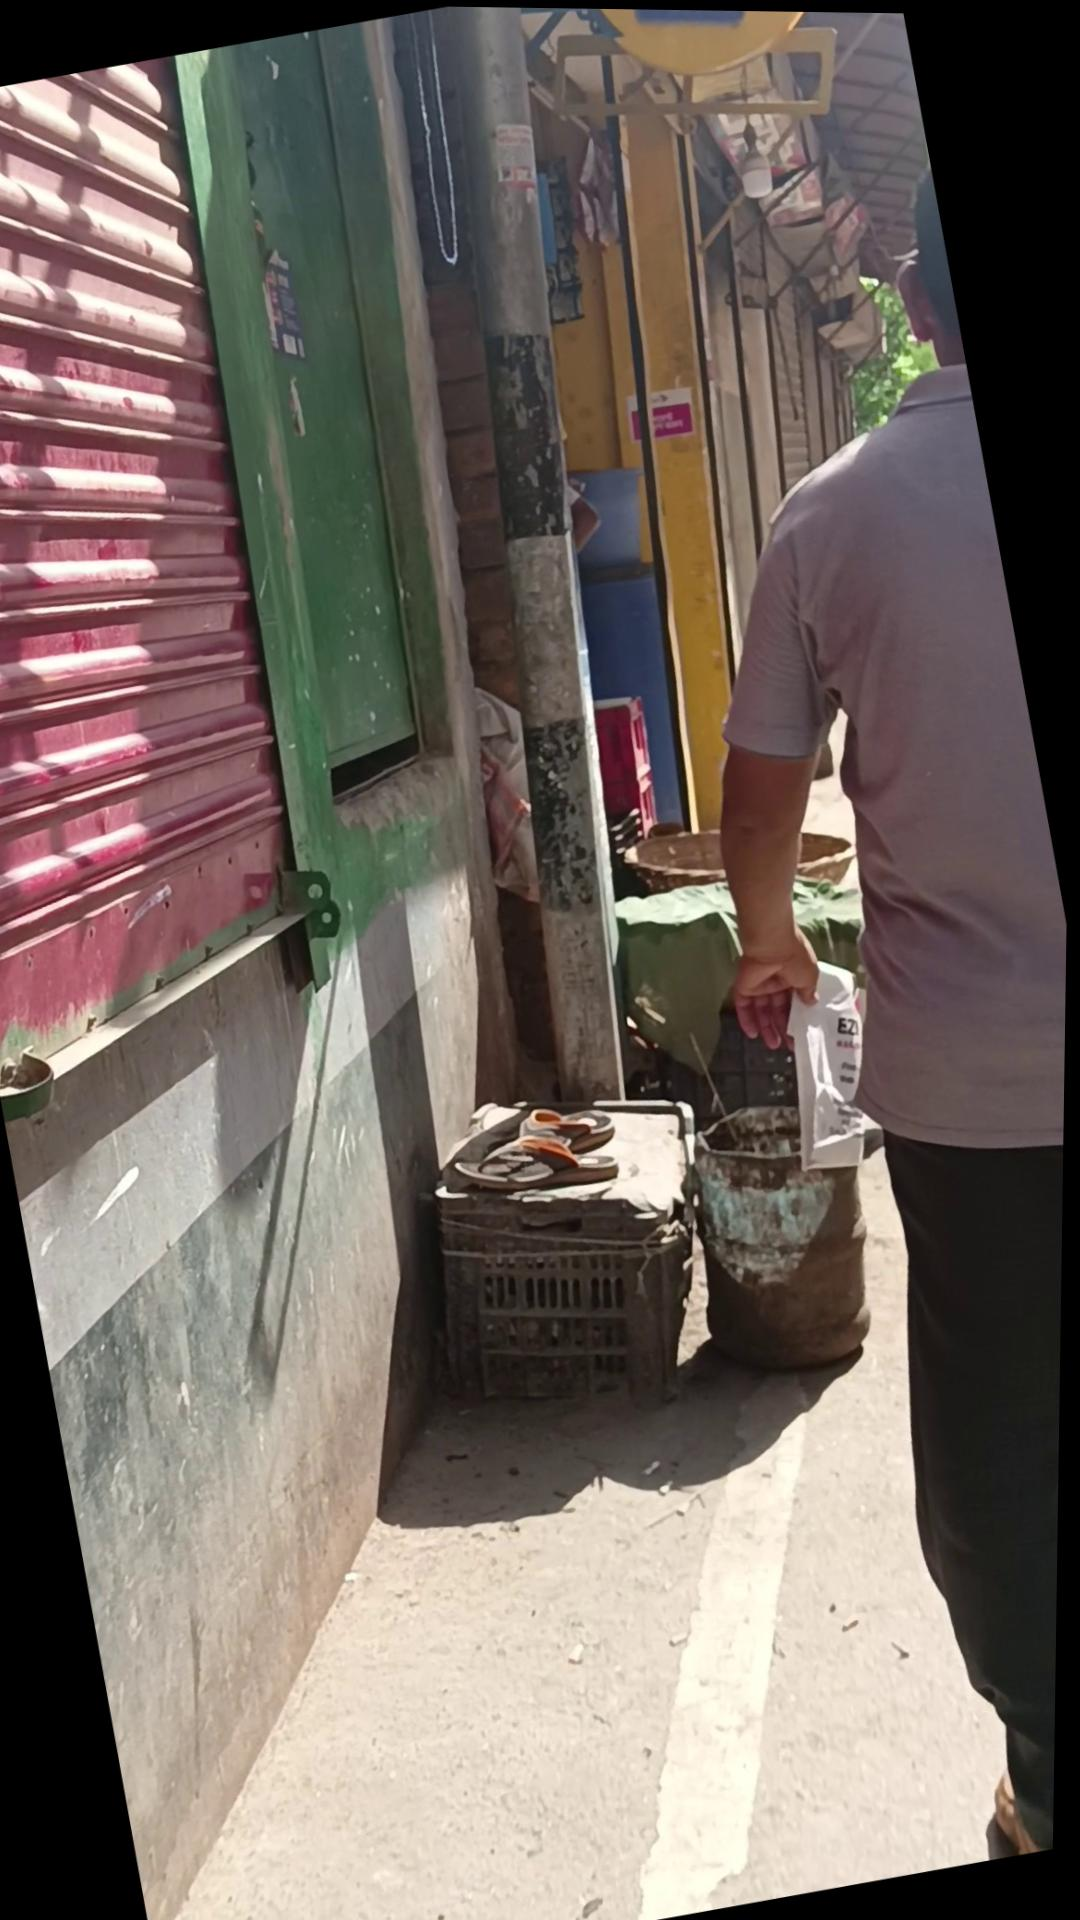Garbage: (668, 1079, 911, 1386)
Motorcycle: (401, 1061, 751, 1445)
Muddy road: (571, 157, 1078, 1876)
Obstacle: (352, 4, 730, 1112)
Potted-plant: (32, 1073, 1068, 1920)
